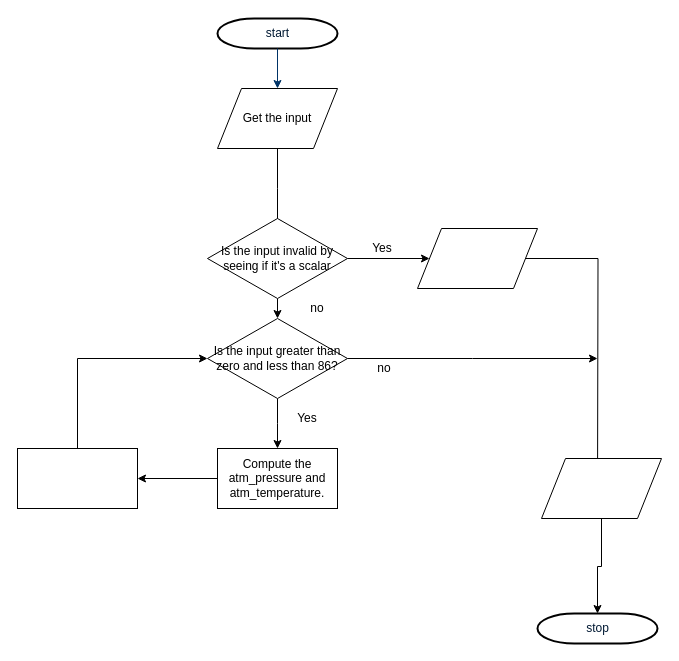
Some shapes in this 679 by 661 pixel diagram are drawn without their labels. Each missing label, with the box of its shape:
Add 0.5 to the altitude (input): (16, 448, 138, 508)
Print error: input is invalid: (416, 228, 538, 288)
Return the output arugment: (540, 458, 662, 518)
